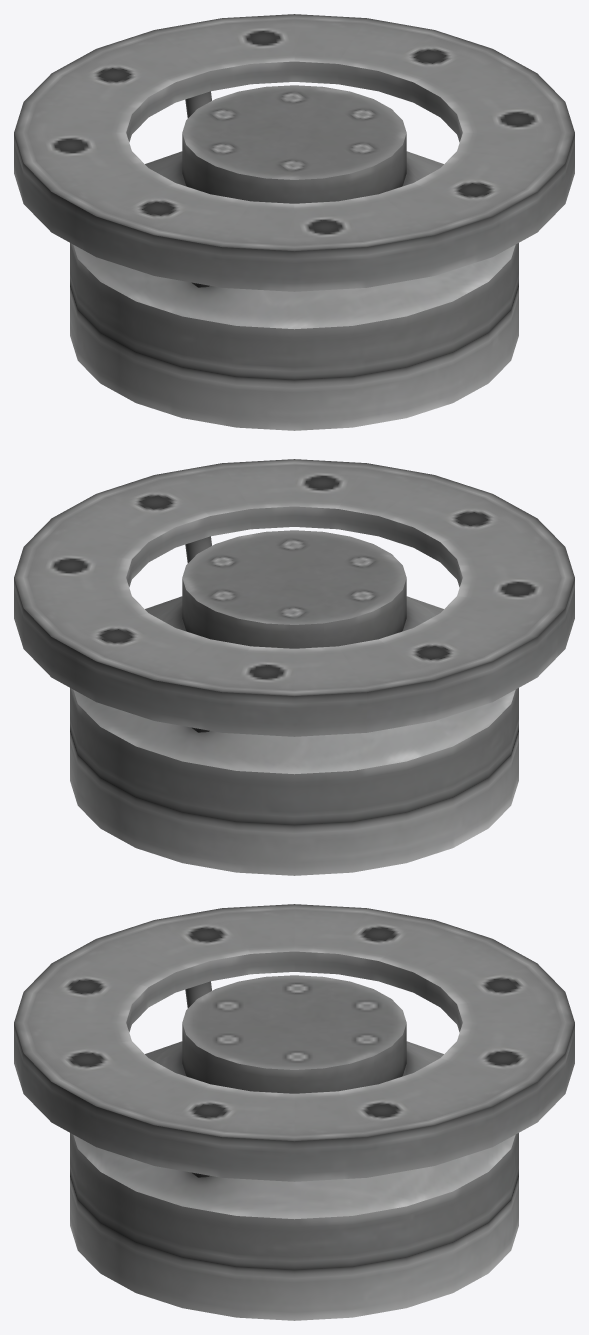
Rendered from castor_ion_engine_s0_1.obj.
The picture shows the model from 3 angles, top to bottom: view 1: azimuth 30°, elevation 25°; view 2: azimuth 150°, elevation 25°; view 3: azimuth 270°, elevation 25°; orthographic projection.
Parts seen in each view (by area): view 1: castor_ion_engine_s0_1; view 2: castor_ion_engine_s0_1; view 3: castor_ion_engine_s0_1.
Part boxes in pixels (box(x1,y1,x2,y2)): castor_ion_engine_s0_1: box(14, 14, 574, 430); castor_ion_engine_s0_1: box(14, 459, 574, 875); castor_ion_engine_s0_1: box(14, 904, 574, 1320).
Size of the model in its own units: 0.625 by 0.2625 by 0.625.
